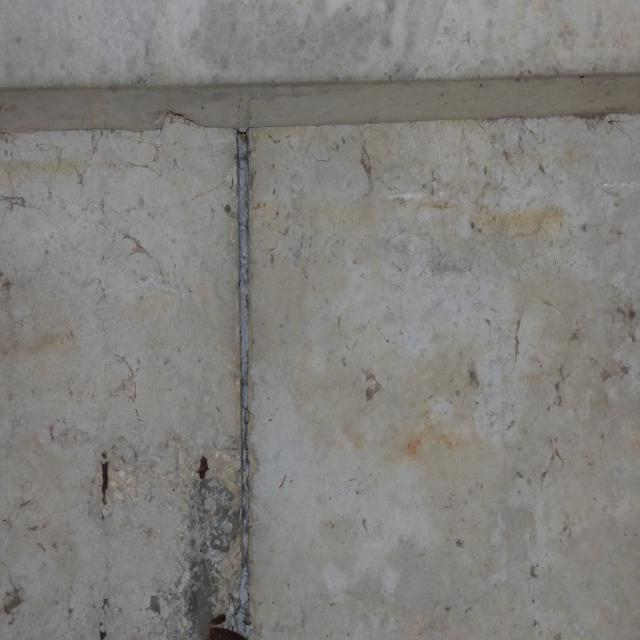corrosion: (89, 442, 117, 520), (199, 610, 246, 640), (195, 447, 210, 493), (94, 618, 113, 640)
